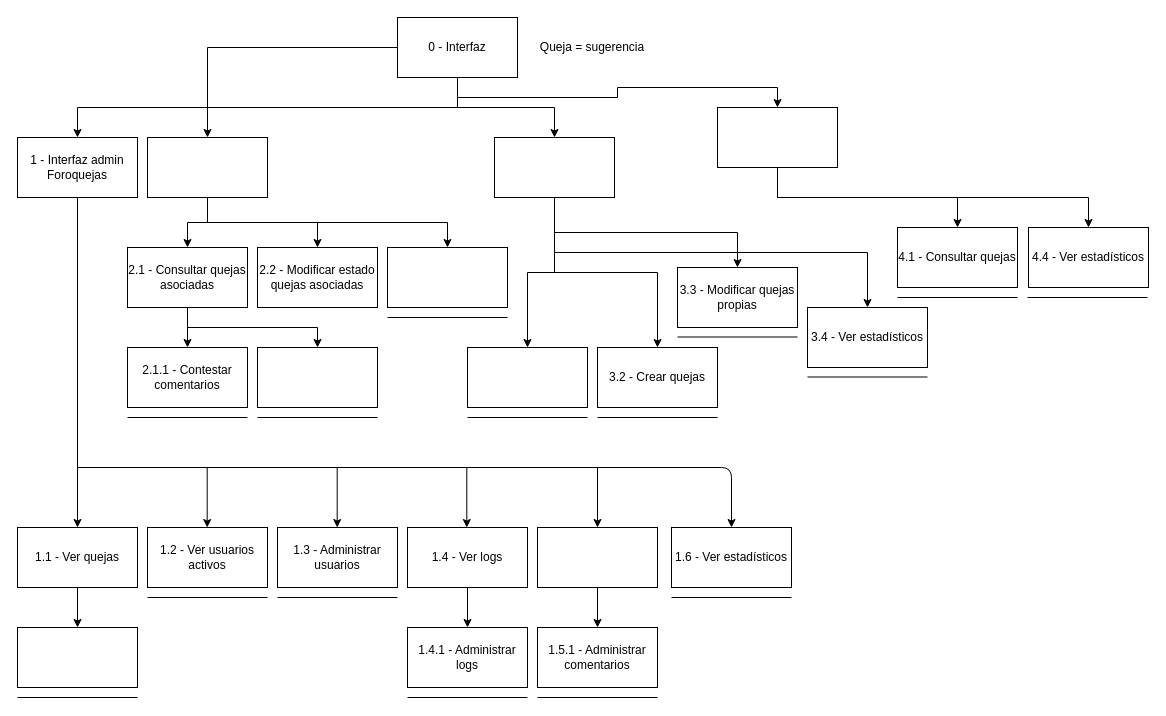
This 1166x716 diagram has some shape labels left out. The shapes that lost their labels are listed below. From the top down, each one's centre as x and y in pixels, then its label:
the point at 777,137: 4 - Interfaz usuario no registrado
the point at 207,167: 2 - Interfaz administración territorial
the point at 554,167: 3 - Interfaz usuario registrado
the point at 447,277: 2.3 - Ver estadísticos
the point at 317,377: 2.1.2 - Agregar información sobre la queja
the point at 527,377: 3.1 - Consultar quejas
the point at 597,557: 1.5 - Ver comentarios
the point at 77,657: 1.1.1 - Administrar quejas
